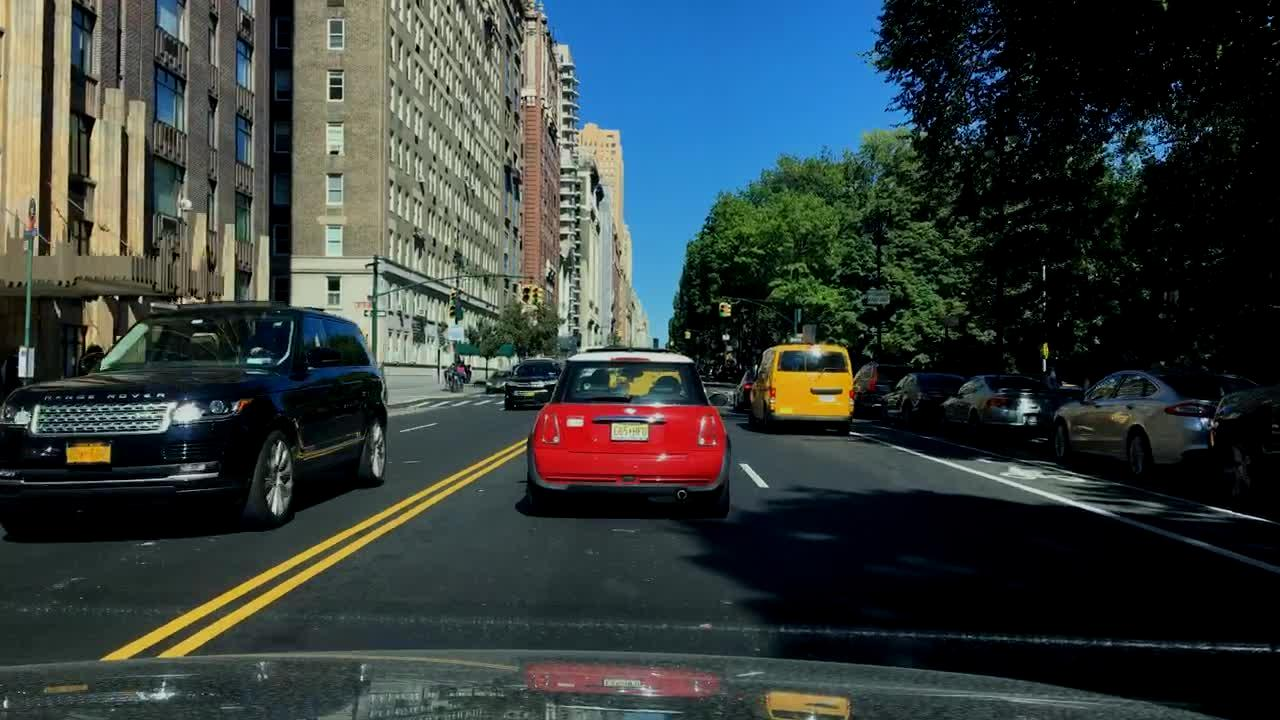range rover: (41, 389, 173, 404)
